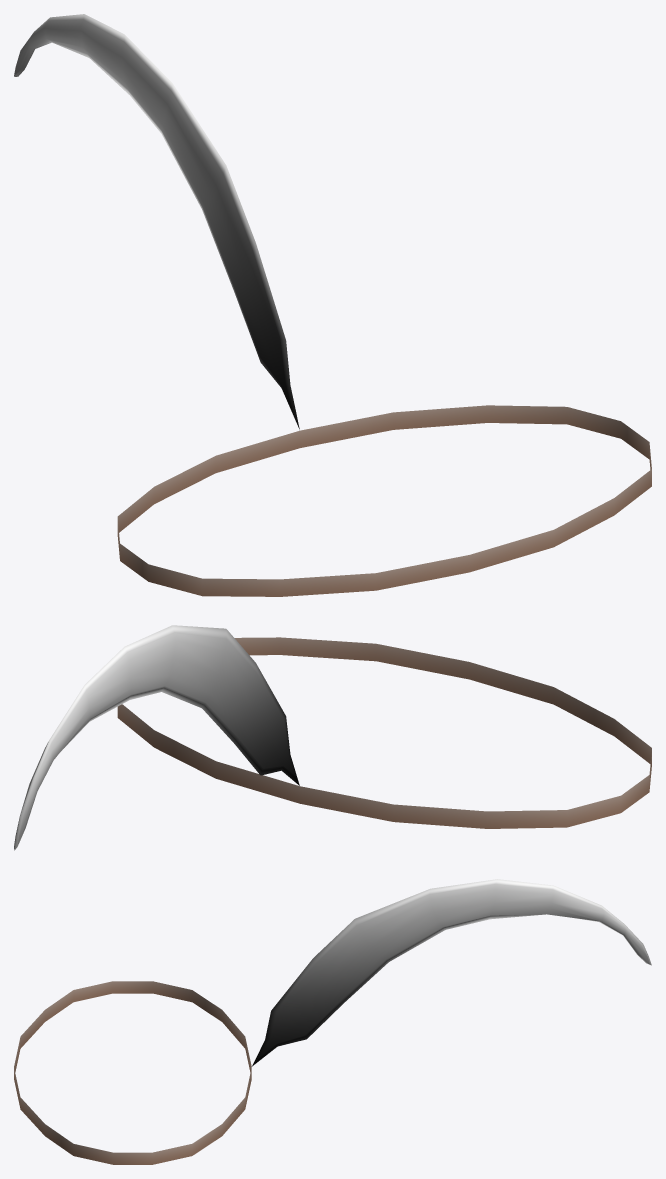
Rendered from Feather_Belt.FBX.
3 views of the same model, one above another, from view 1: azimuth 30°, elevation 25°; view 2: azimuth 150°, elevation 25°; view 3: azimuth 270°, elevation 25° (orthographic). The views are drawn at different scales.
Parts seen in each view (by area): view 1: Belt001, Feather001; view 2: Feather001, Belt001; view 3: Feather001, Belt001.
Part boxes in pixels (<box>): Belt001: <box>117,405,651,596</box>; Feather001: <box>14,14,299,429</box>; Feather001: <box>14,625,299,850</box>; Belt001: <box>117,637,651,828</box>; Feather001: <box>252,879,651,1066</box>; Belt001: <box>14,981,251,1164</box>.
Size of the model in its own units: 47.74 by 26 by 75.14.
1 material, 1 textured.
